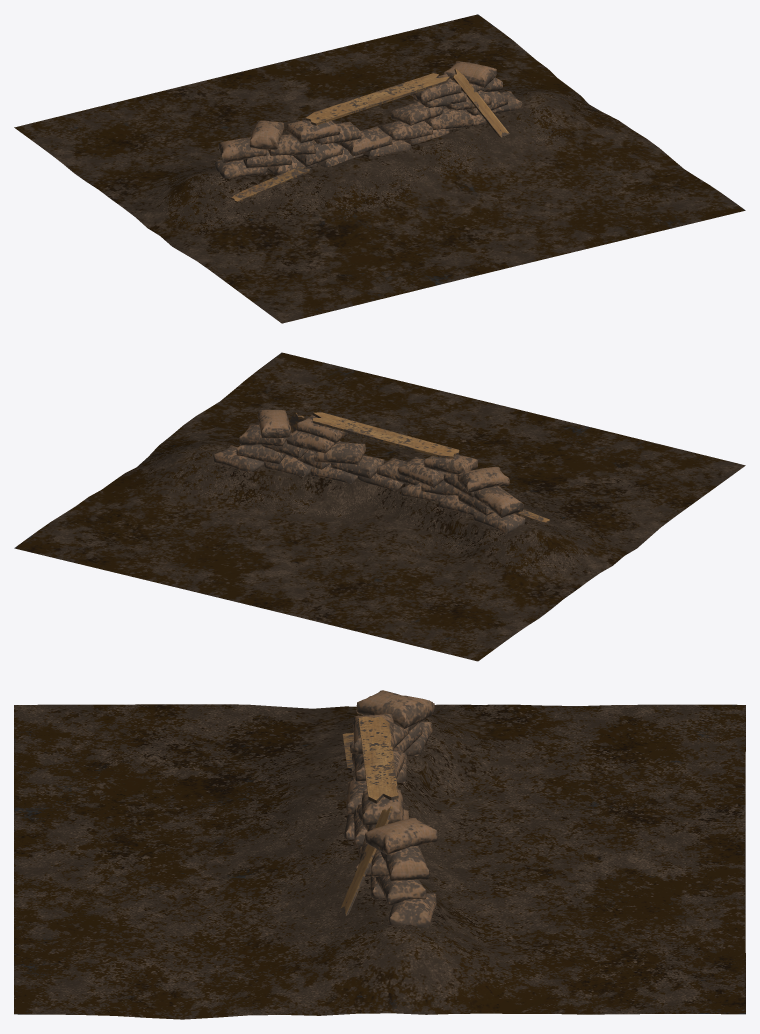
File: sand_bags.glb
3 views of the same model, one above another, from view 1: azimuth 30°, elevation 25°; view 2: azimuth 150°, elevation 25°; view 3: azimuth 270°, elevation 25° (orthographic). The views are drawn at different scales.
Visible parts, largest first — view 1: Sand Bags; view 2: Sand Bags; view 3: Sand Bags.
Boxes of the visible parts, x1,y1,x2,y2 form: Sand Bags: (14, 14, 745, 323); Sand Bags: (14, 352, 745, 661); Sand Bags: (14, 690, 745, 1019).
Bounding box in the file's own units: 3.76 × 0.6338 × 3.76.
1 material, 1 textured.
